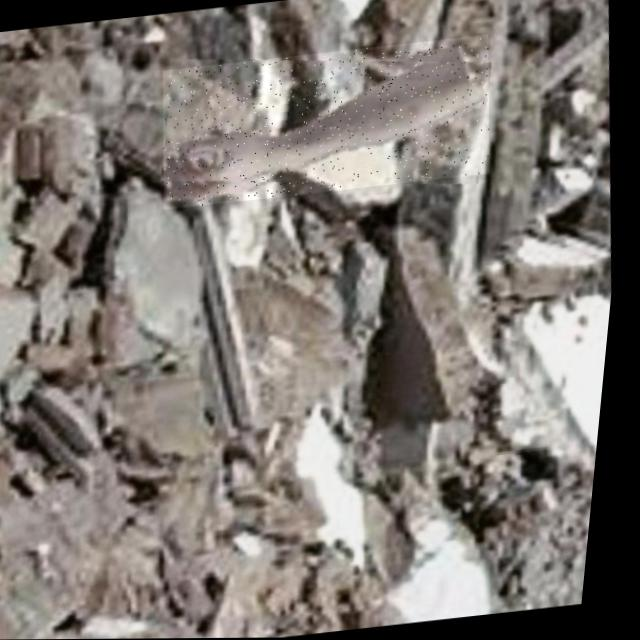Person in Rubble: (152, 35, 502, 210)
